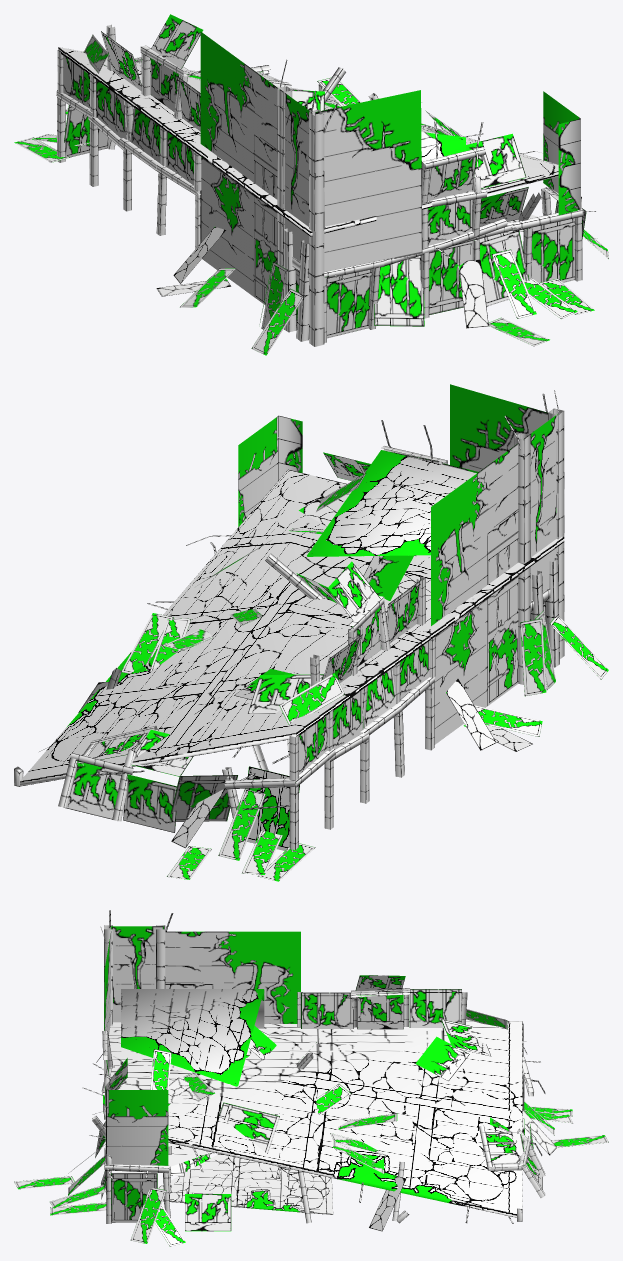
File: Building_01.fbx
3 views of the same model, one above another, from view 1: azimuth 30°, elevation 25°; view 2: azimuth 150°, elevation 25°; view 3: azimuth 270°, elevation 25° (orthographic). The views are drawn at different scales.
Parts seen in each view (by area): view 1: Building_01; view 2: Building_01; view 3: Building_01.
Boxes of the visible parts, left/top/right/bottom form: Building_01: left=14, top=14, right=608, bottom=355; Building_01: left=14, top=384, right=608, bottom=881; Building_01: left=14, top=910, right=608, bottom=1246.
Bounding box in the file's own units: 85.02 × 57.99 × 138.
